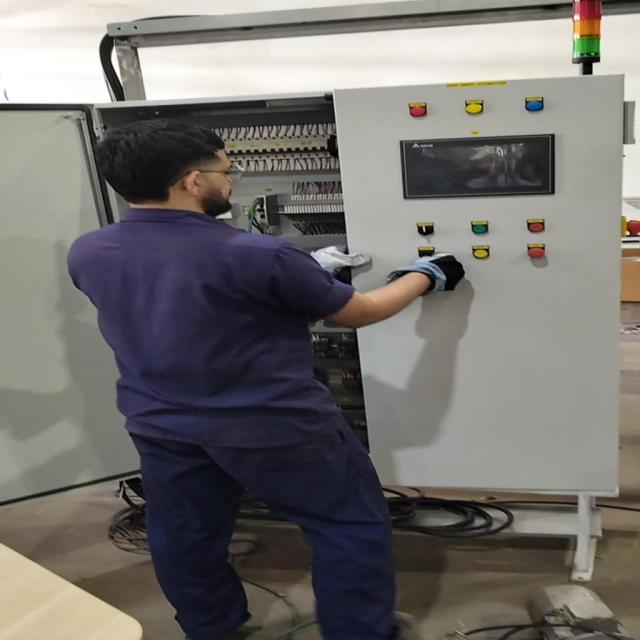Gloves-Detection: (395, 248, 454, 290), (327, 243, 365, 273)
